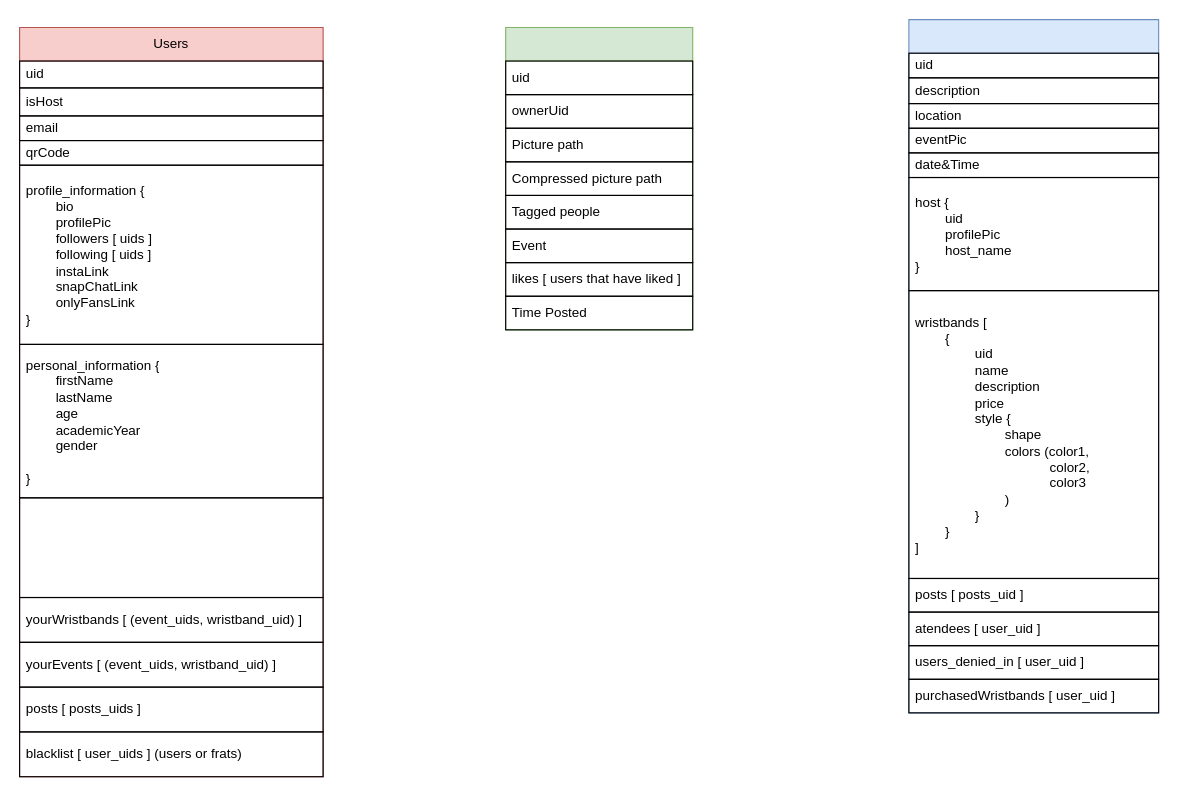
Image size: 1178x796. Some labels were removed from this diagram. Each missing label, with the box of its shape:
Events: (908, 18, 1159, 713)
Posts: (505, 26, 693, 330)
settings { verified_email }: (18, 497, 323, 598)
